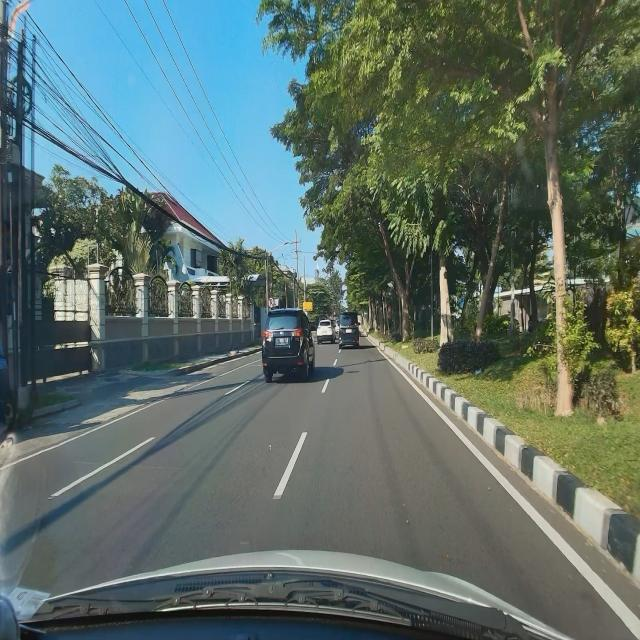car: (338, 310, 360, 350)
license-plate: (261, 307, 316, 383), (276, 338, 289, 346), (346, 328, 352, 334)
